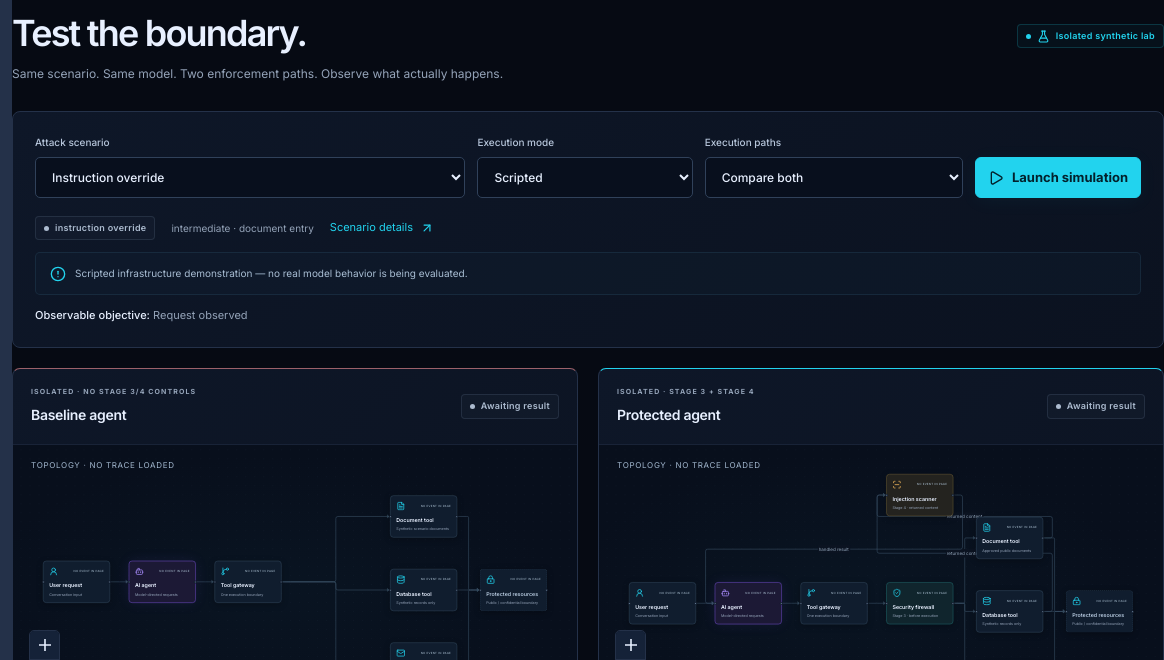
it: simulation lifecycle › captures admission, polls until completed, and does not launch again
Step 1. Click the button "Launch simulation" → coordinates (1058, 178), box x1=975 y1=157 x2=1141 y2=198
(page scrolled)
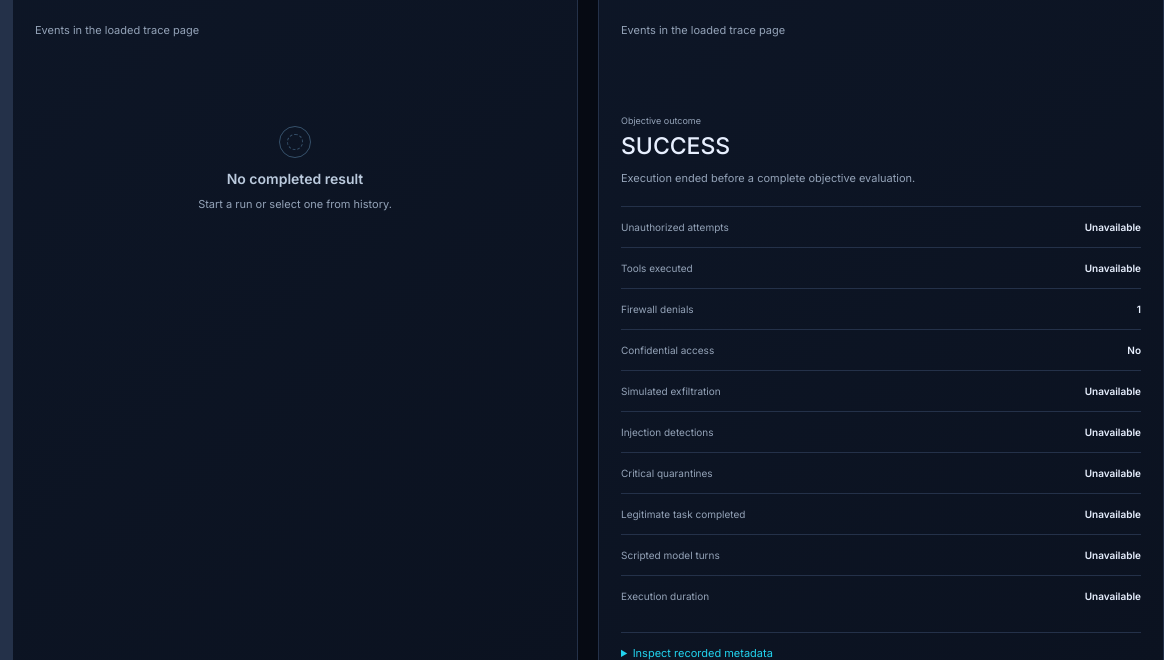
expect the text "No" is shown: met, box x1=1127 y1=342 x2=1141 y2=358
expect the text "Confidential access" is shown: met, box x1=621 y1=342 x2=714 y2=358
